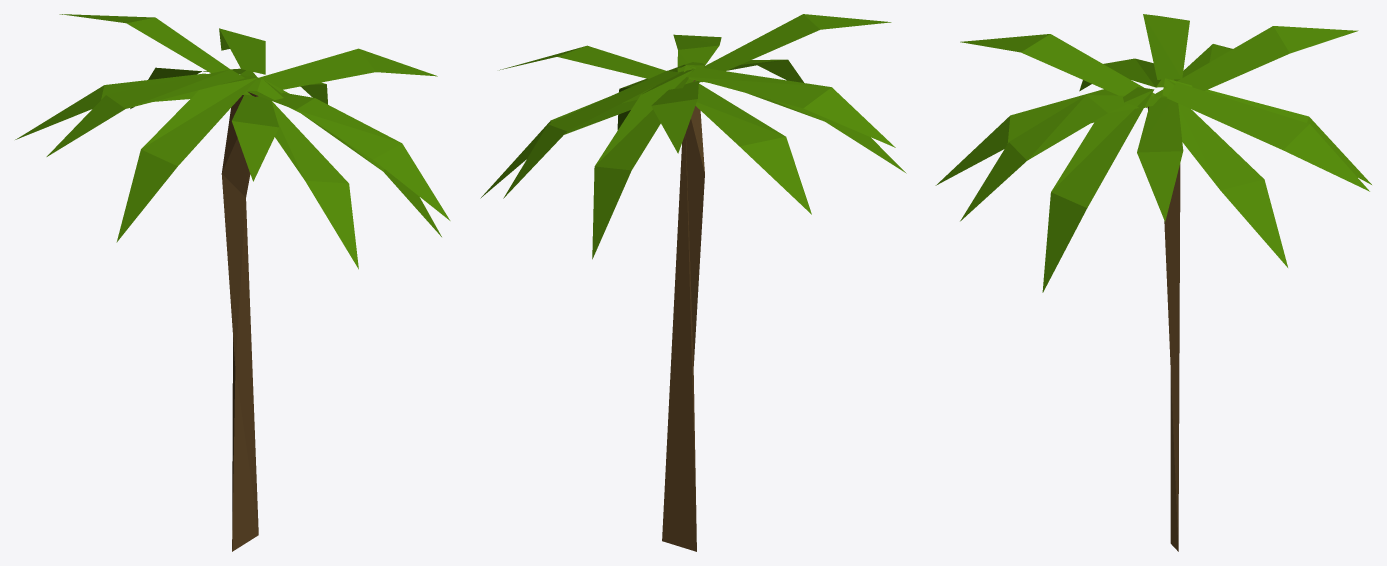
File: trop-rain.average.deepgreen-op0.4.gltf
3 views of the same model, side by side, from view 1: azimuth 30°, elevation 25°; view 2: azimuth 150°, elevation 25°; view 3: azimuth 270°, elevation 25° (orthographic). The views are drawn at different scales.
Visible parts, largest first — view 1: Plane; view 2: Plane; view 3: Plane.
Boxes of the visible parts, x1,y1,x2,y2 form: Plane: (15,14,450,551); Plane: (480,14,906,551); Plane: (935,14,1371,551).
Bounding box in the file's own units: 3.22 × 3.91 × 3.15.
1 material, 1 textured.
